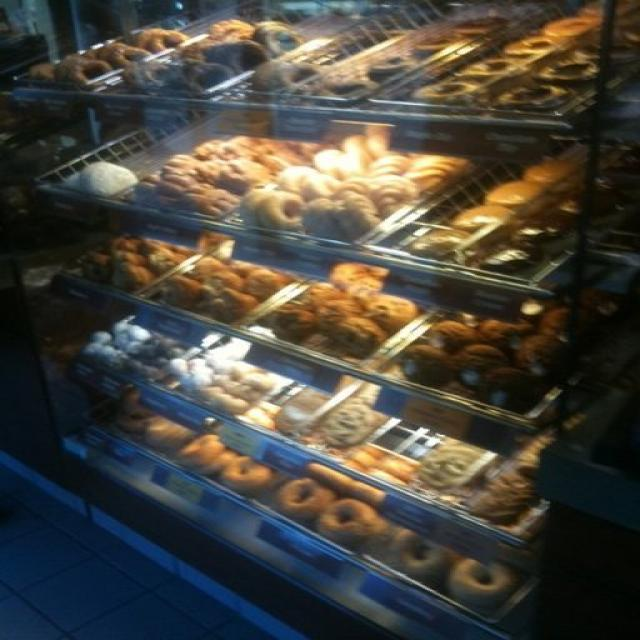Donuts: (20, 13, 604, 617)
